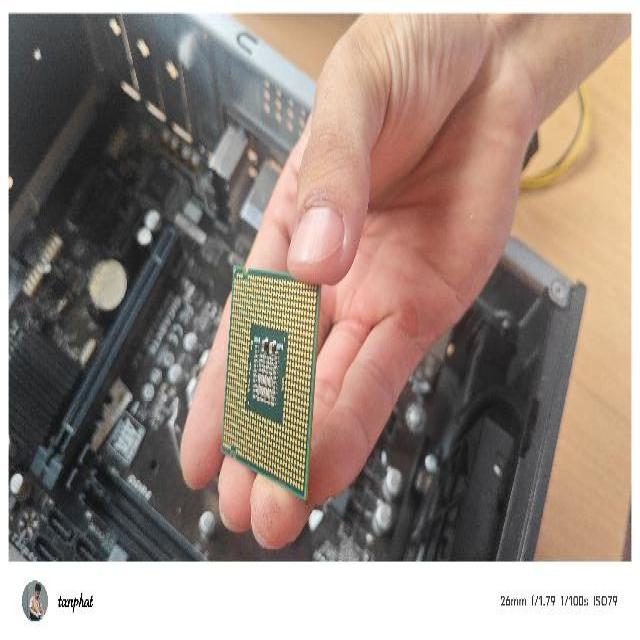CPU: (216, 261, 325, 504)
